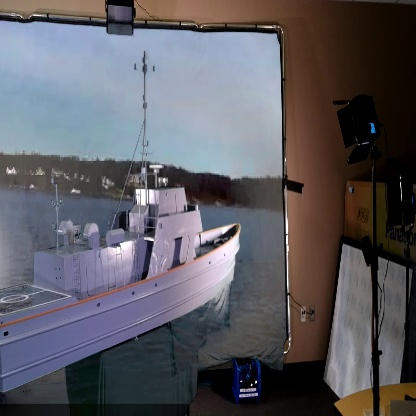YP689: (0, 49, 243, 393)
